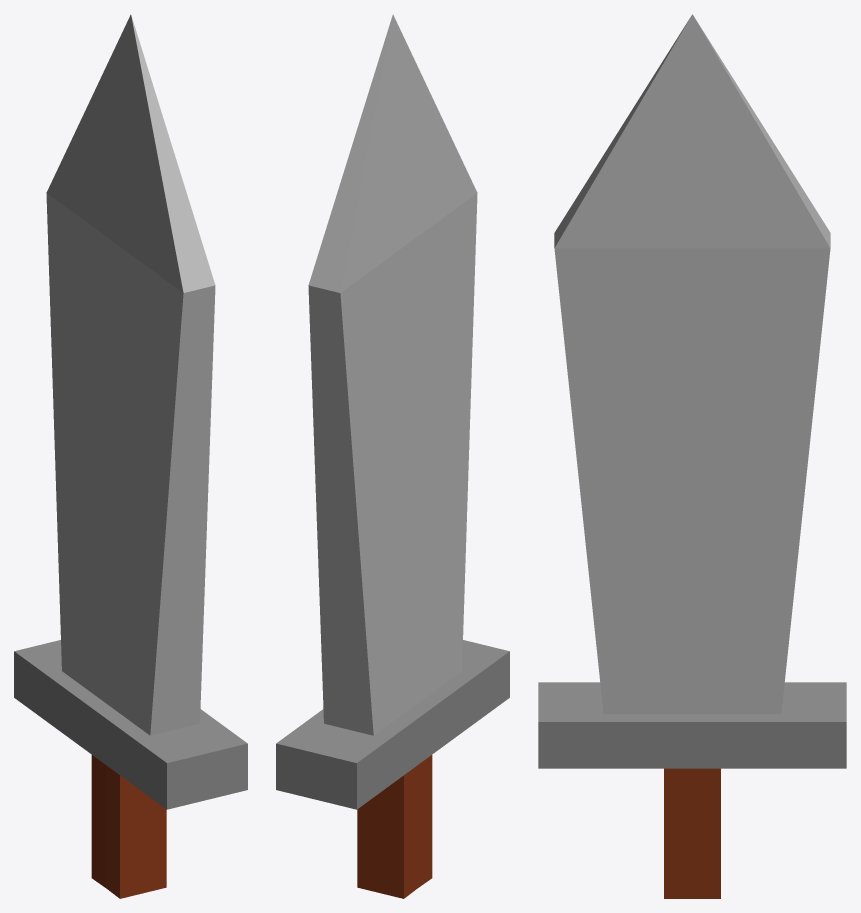
File: Sword.fbx
3 views of the same model, side by side, from view 1: azimuth 30°, elevation 25°; view 2: azimuth 150°, elevation 25°; view 3: azimuth 270°, elevation 25° (orthographic).
Parts seen in each view (by area): view 1: Sword; view 2: Sword; view 3: Sword.
Part boxes in pixels (<box>): Sword: <box>14,14,247,898</box>; Sword: <box>276,14,509,898</box>; Sword: <box>538,14,846,898</box>.
Size of the model in its own units: 10.64 by 109 by 34.94.
